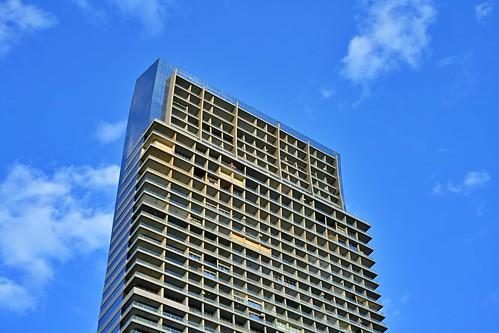building: (92, 55, 392, 333)
